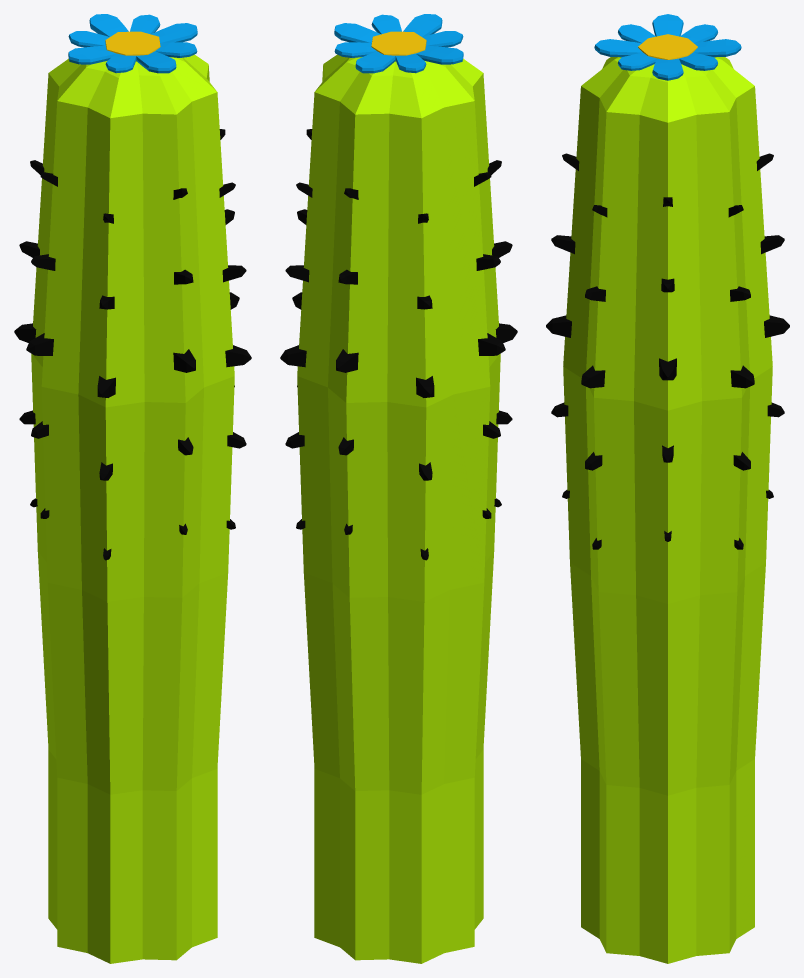
The model's file is Cardon05_00Brazos_Flor_Azul.fbx.
3 renders of one model, left to right at view 1: azimuth 30°, elevation 25°; view 2: azimuth 150°, elevation 25°; view 3: azimuth 270°, elevation 25°, orthographic.
Parts seen in each view (by area): view 1: Cactus, Espinas, Flor_Azul; view 2: Cactus, Espinas, Flor_Azul; view 3: Cactus, Espinas, Flor_Azul.
Part boxes in pixels (x1,y1,x2,y2): Cactus: [31, 54, 234, 963]; Espinas: [14, 129, 251, 560]; Flor_Azul: [68, 14, 197, 73]; Cactus: [297, 54, 500, 963]; Espinas: [280, 129, 517, 560]; Flor_Azul: [334, 14, 463, 73]; Cactus: [563, 57, 772, 963]; Espinas: [546, 153, 789, 549]; Flor_Azul: [594, 14, 741, 80].
Size of the model in its own units: 53.18 by 212 by 53.18.
